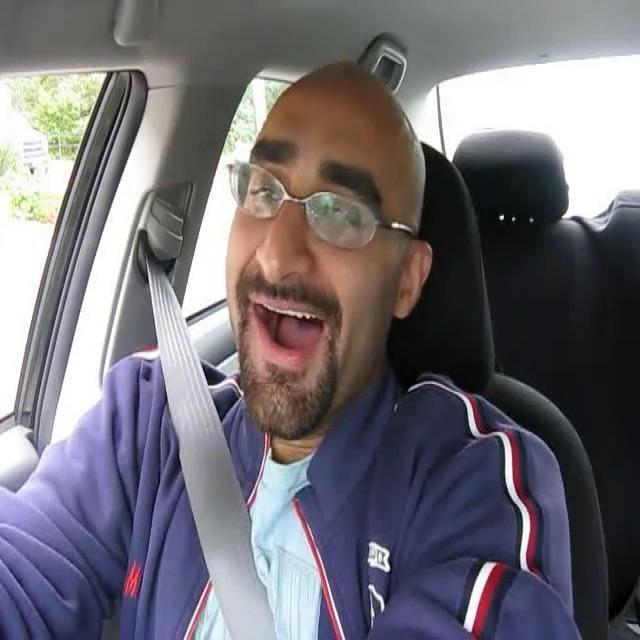open: (310, 153, 391, 250), (234, 134, 300, 221)
